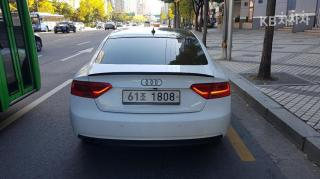0: (163, 91, 169, 101)
1: (133, 91, 140, 101), (150, 91, 156, 101)
6: (127, 90, 135, 102)
8: (156, 92, 163, 101), (169, 91, 175, 101)
조: (140, 91, 147, 101)
